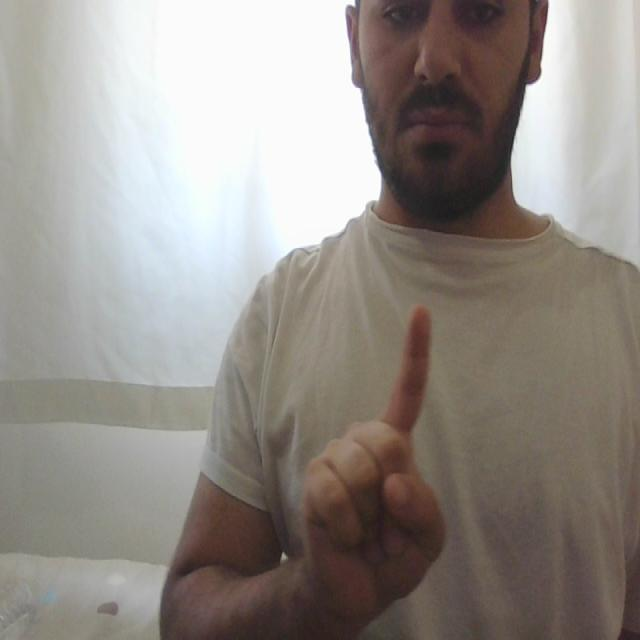Hayir: (288, 283, 458, 636)
